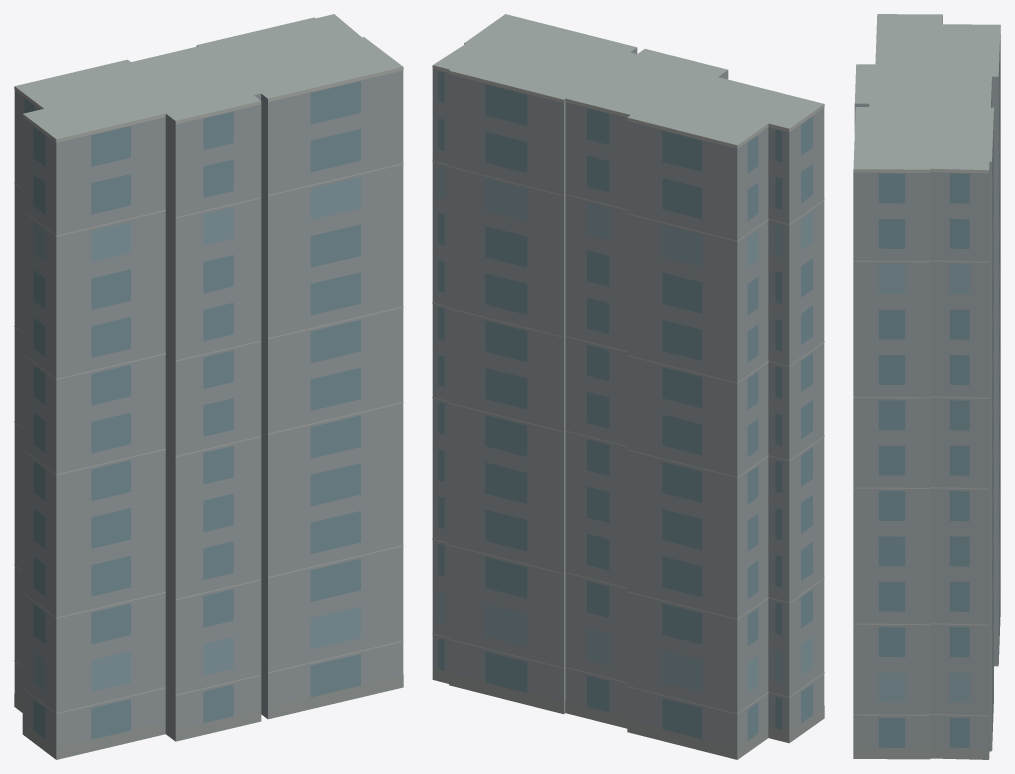
File: survey-upis-32762670.glb
3 renders of one model, left to right at view 1: azimuth 30°, elevation 25°; view 2: azimuth 150°, elevation 25°; view 3: azimuth 270°, elevation 25°, orthographic. The views are drawn at different scales.
Visible parts, largest first — view 1: survey-upis-32762670.tmp; view 2: survey-upis-32762670.tmp; view 3: survey-upis-32762670.tmp.
Boxes of the visible parts, x1=… form: survey-upis-32762670.tmp: x1=14, y1=14, x2=403, y2=759; survey-upis-32762670.tmp: x1=432, y1=14, x2=824, y2=759; survey-upis-32762670.tmp: x1=853, y1=14, x2=1000, y2=759.
Size of the model in its own units: 24.17 by 42.5 by 9.63.
